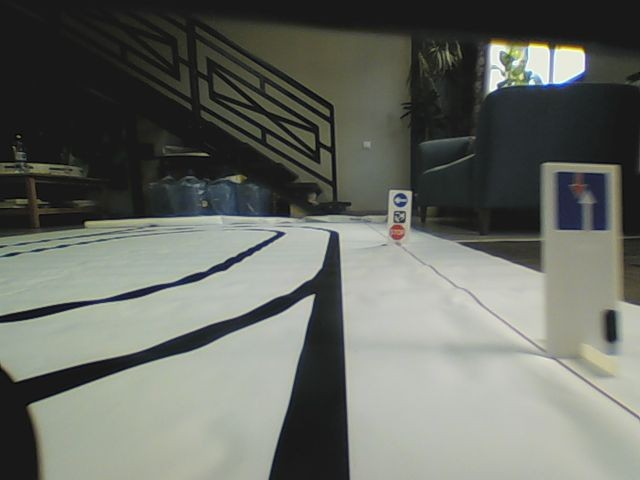Stop: (389, 224, 406, 237)
priority_movement: (555, 169, 614, 237)
